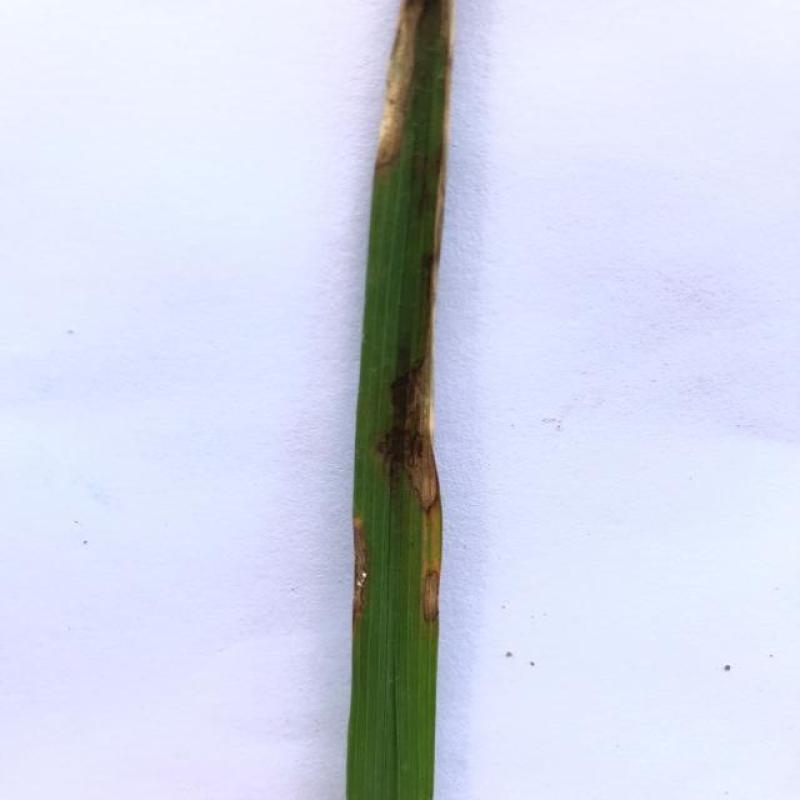Bacterial_Leaf_Blight: (328, 4, 464, 800)
